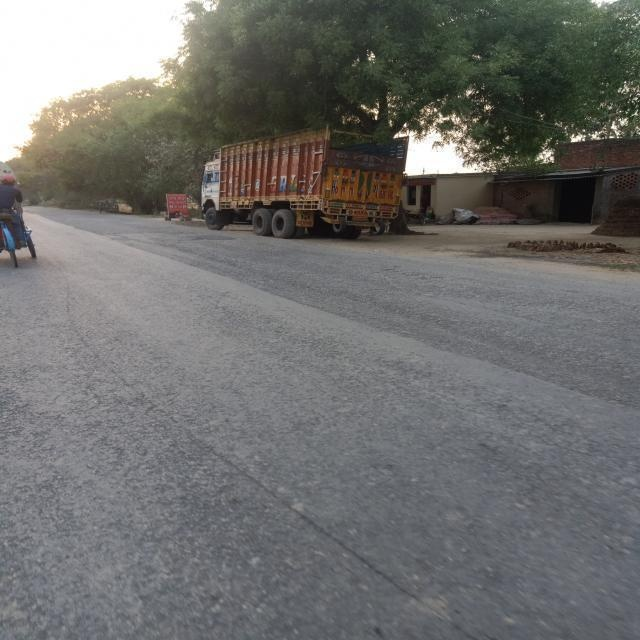Truck: (202, 128, 393, 236)
